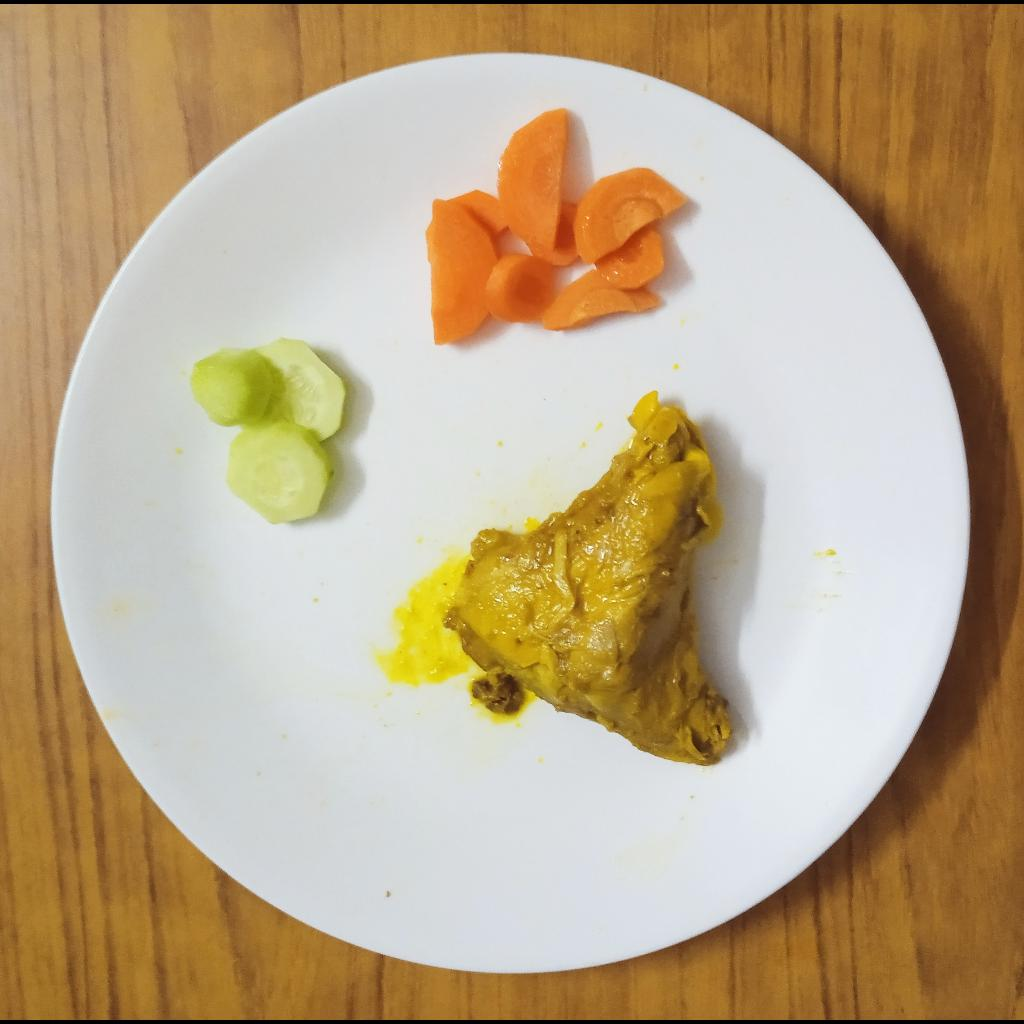carrot: (428, 106, 694, 348)
chicken: (441, 404, 732, 769)
cucumber: (187, 336, 347, 525)
